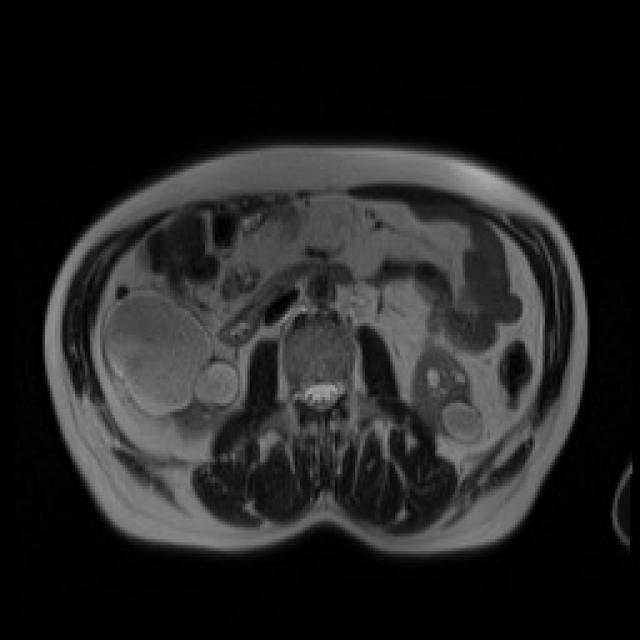sag: (100, 291, 241, 441)
sol: (411, 347, 487, 444)
